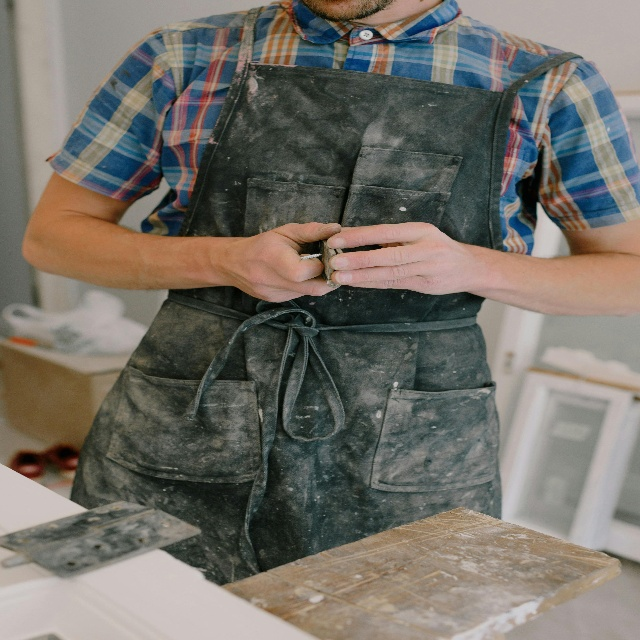Sin_guantes: (326, 221, 465, 296), (229, 217, 341, 304)
